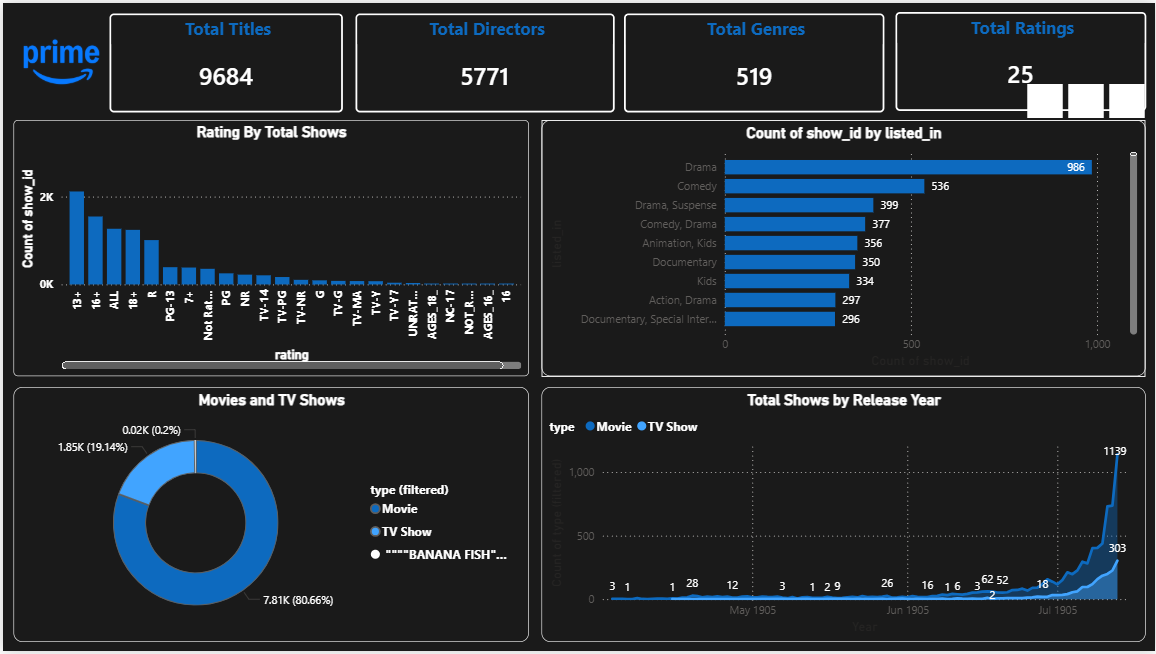

The page's visual inventory and layout, read from the dashboard file:
{"tool":"powerbi","page":{"name":"Page 1","canvas":[1280,720],"ordinal":0},"visuals":[{"type":"cardVisual","title":"Total Titles","fields":{"Data":["Count(amazon_prime_titles.show_id)"]},"box":[117.7,11.1,259.3,109.8],"z":0},{"type":"shape","box":[138,145.5,221.1,151.2],"z":1000},{"type":"cardVisual","title":"Total Directors","fields":{"Data":["Count(amazon_prime_titles.director)"]},"box":[391.3,11.1,287.9,109.8],"z":2000},{"type":"cardVisual","title":"Total Genres","fields":{"Data":["Count(amazon_prime_titles.listed_in)"]},"box":[690.3,11.1,289.5,109.8],"z":3000},{"type":"cardVisual","title":"Total Ratings","fields":{"Data":["Count(amazon_prime_titles.rating)"]},"box":[991,9.5,278.4,109.8],"z":4000},{"type":"columnChart","title":"Rating By Total Shows","fields":{"Category":["amazon_prime_titles.rating"],"Y":["CountNonNull(amazon_prime_titles.show_id)"]},"box":[11.1,130.4,572.6,284.7],"z":5000},{"type":"donutChart","title":"Movies and TV Shows","fields":{"Category":["amazon_prime_titles.type (filtered)"],"Y":["CountNonNull(amazon_prime_titles.type (filtered))"]},"box":[11.1,426.3,572.6,283.1],"z":6000},{"type":"barChart","fields":{"Y":["CountNonNull(amazon_prime_titles.show_id)"],"Category":["amazon_prime_titles.listed_in"]},"box":[598.1,130.4,671.2,284.7],"z":7000},{"type":"areaChart","title":"Total Shows by Release Year","fields":{"Category":["amazon_prime_titles.release_year.Variation.Date Hierarchy.Year","amazon_prime_titles.release_year.Variation.Date Hierarchy.Quarter","amazon_prime_titles.release_year.Variation.Date Hierarchy.Month","amazon_prime_titles.release_year.Variation.Date Hierarchy.Day"],"Y":["CountNonNull(amazon_prime_titles.type (filtered))"],"Series":["amazon_prime_titles.type (filtered)"]},"box":[598.1,426.3,671.2,283.1],"z":8000},{"type":"image","box":[11.1,23.9,106.6,84.3],"z":8001}]}

Visuals, with their boxes in screenshot pixels (x1, y1, x2, y2), scaled from the page's 1280x720 canvas onto the 1156x654 screenshot:
"Total Titles" cardVisual: (x1=106, y1=10, x2=340, y2=110)
shape: (x1=125, y1=132, x2=324, y2=270)
"Total Directors" cardVisual: (x1=353, y1=10, x2=613, y2=110)
"Total Genres" cardVisual: (x1=623, y1=10, x2=885, y2=110)
"Total Ratings" cardVisual: (x1=895, y1=9, x2=1146, y2=108)
"Rating By Total Shows" columnChart: (x1=10, y1=118, x2=527, y2=377)
"Movies and TV Shows" donutChart: (x1=10, y1=387, x2=527, y2=644)
barChart - CountNonNull(amazon_prime_titles.show_id) x amazon_prime_titles.listed_in: (x1=540, y1=118, x2=1146, y2=377)
"Total Shows by Release Year" areaChart: (x1=540, y1=387, x2=1146, y2=644)
image: (x1=10, y1=22, x2=106, y2=98)
